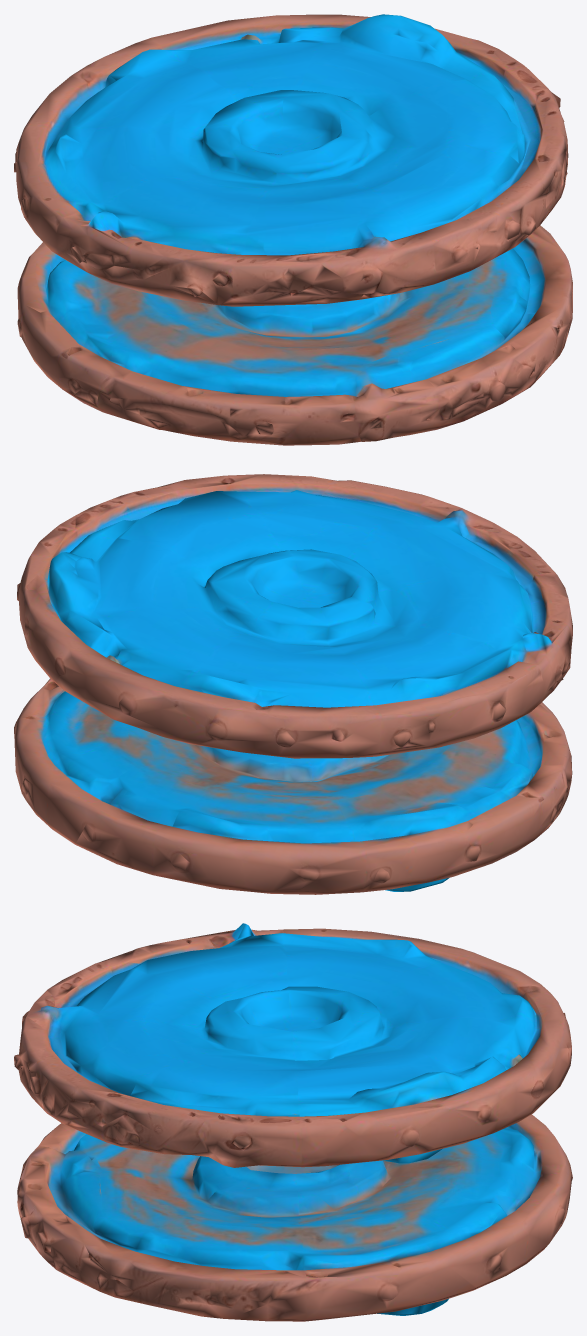
File: fullempty.glb
3 renders of one model, top to bottom at view 1: azimuth 30°, elevation 25°; view 2: azimuth 150°, elevation 25°; view 3: azimuth 270°, elevation 25°, orthographic.
Visible parts, largest first — view 1: fullempty; view 2: fullempty; view 3: fullempty.
Boxes of the visible parts, box(x1,y1,x2,y2) form: fullempty: box(14, 14, 572, 445); fullempty: box(14, 474, 572, 894); fullempty: box(14, 923, 572, 1321).
Bounding box in the file's own units: 0.9776 × 0.4594 × 0.9781.
1 material, 1 textured.
